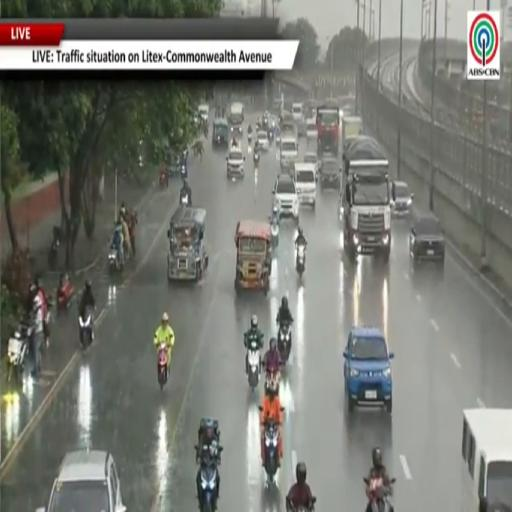car: (36, 451, 126, 511), (343, 327, 393, 412), (409, 214, 445, 263), (273, 174, 299, 222), (294, 163, 316, 209), (392, 182, 413, 216), (319, 156, 340, 189), (280, 134, 297, 169), (227, 146, 245, 179), (304, 152, 320, 181), (306, 118, 317, 140), (257, 131, 269, 151), (198, 104, 209, 122)
jeepney: (168, 206, 208, 281), (235, 220, 271, 295), (212, 118, 230, 148)
motorcycle: (8, 323, 32, 381), (264, 420, 280, 484), (364, 478, 395, 511), (199, 461, 217, 511), (247, 344, 261, 389), (48, 227, 62, 270), (57, 276, 74, 311), (79, 308, 93, 348), (277, 323, 291, 362), (158, 344, 168, 390), (108, 245, 123, 271), (291, 496, 316, 511), (265, 368, 280, 392), (296, 245, 305, 277), (271, 219, 279, 249), (159, 169, 169, 188), (180, 190, 191, 206), (180, 163, 187, 179), (268, 128, 273, 145), (203, 122, 208, 138), (254, 151, 259, 164), (248, 133, 252, 143)
truck: (339, 136, 394, 262), (316, 104, 339, 158), (342, 117, 362, 148)
